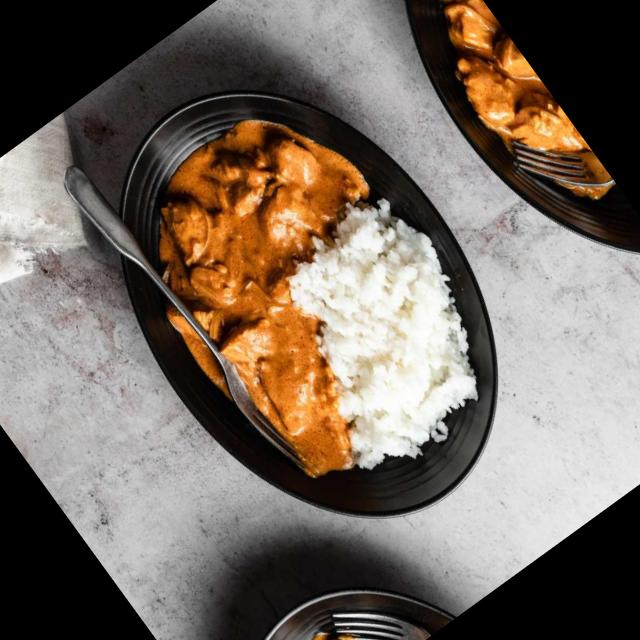chicken: (124, 100, 364, 320), (410, 0, 624, 231), (148, 232, 349, 459)
rice: (273, 211, 489, 445)
